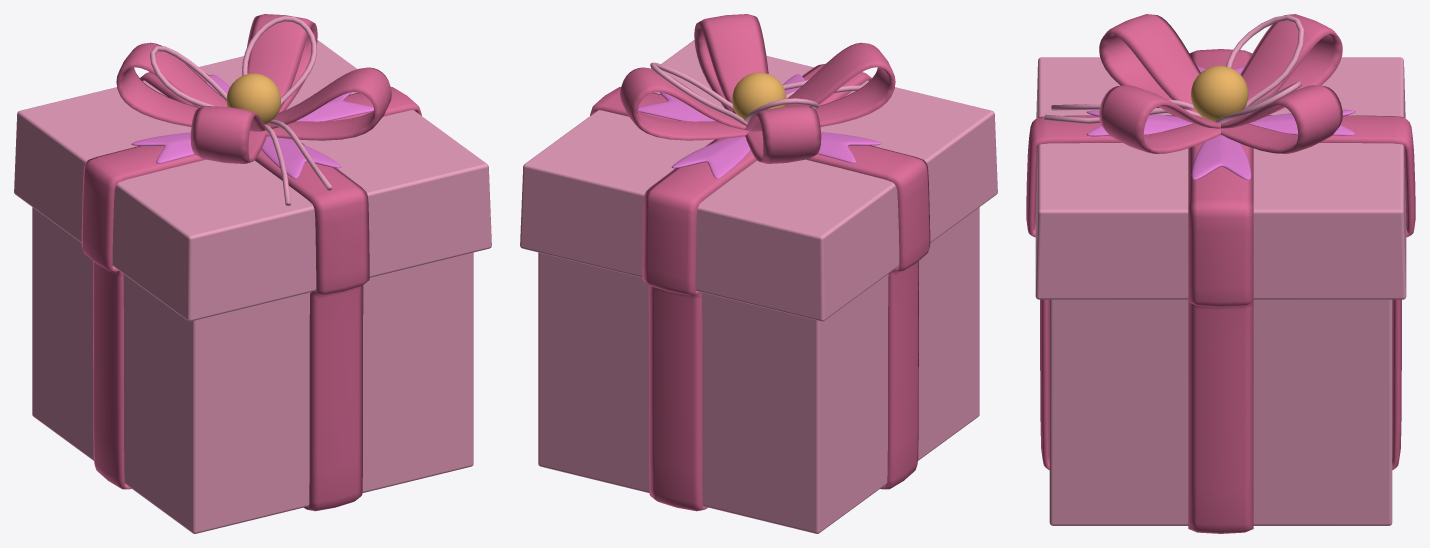
The model's file is gift_box.gltf.
3 renders of one model, left to right at view 1: azimuth 30°, elevation 25°; view 2: azimuth 150°, elevation 25°; view 3: azimuth 270°, elevation 25°, orthographic. The views are drawn at different scales.
Visible parts, largest first — view 1: Giftbox01, Giftbox02, Giftbox03, Giftbox04, Giftbox05, Giftbox06; view 2: Giftbox01, Giftbox02, Giftbox03, Giftbox04, Giftbox05, Giftbox06; view 3: Giftbox01, Giftbox02, Giftbox03, Giftbox04, Giftbox05, Giftbox06.
Part boxes in pixels (x1=…): Giftbox01: x1=14, y1=40, x2=491, y2=533; Giftbox02: x1=81, y1=67, x2=421, y2=511; Giftbox03: x1=116, y1=14, x2=391, y2=163; Giftbox04: x1=131, y1=74, x2=373, y2=178; Giftbox05: x1=150, y1=16, x2=332, y2=206; Giftbox06: x1=226, y1=73, x2=280, y2=124; Giftbox01: x1=520, y1=40, x2=997, y2=533; Giftbox02: x1=590, y1=63, x2=930, y2=511; Giftbox03: x1=620, y1=14, x2=895, y2=163; Giftbox04: x1=638, y1=74, x2=881, y2=178; Giftbox05: x1=650, y1=62, x2=864, y2=125; Giftbox06: x1=732, y1=72, x2=786, y2=120; Giftbox01: x1=1035, y1=57, x2=1406, y2=525; Giftbox02: x1=1026, y1=49, x2=1415, y2=533; Giftbox03: x1=1099, y1=14, x2=1342, y2=153; Giftbox04: x1=1086, y1=66, x2=1355, y2=179; Giftbox05: x1=1044, y1=15, x2=1304, y2=123; Giftbox06: x1=1191, y1=65, x2=1248, y2=121.
Bounding box in the file's own units: 2.27 × 2.66 × 2.27.
